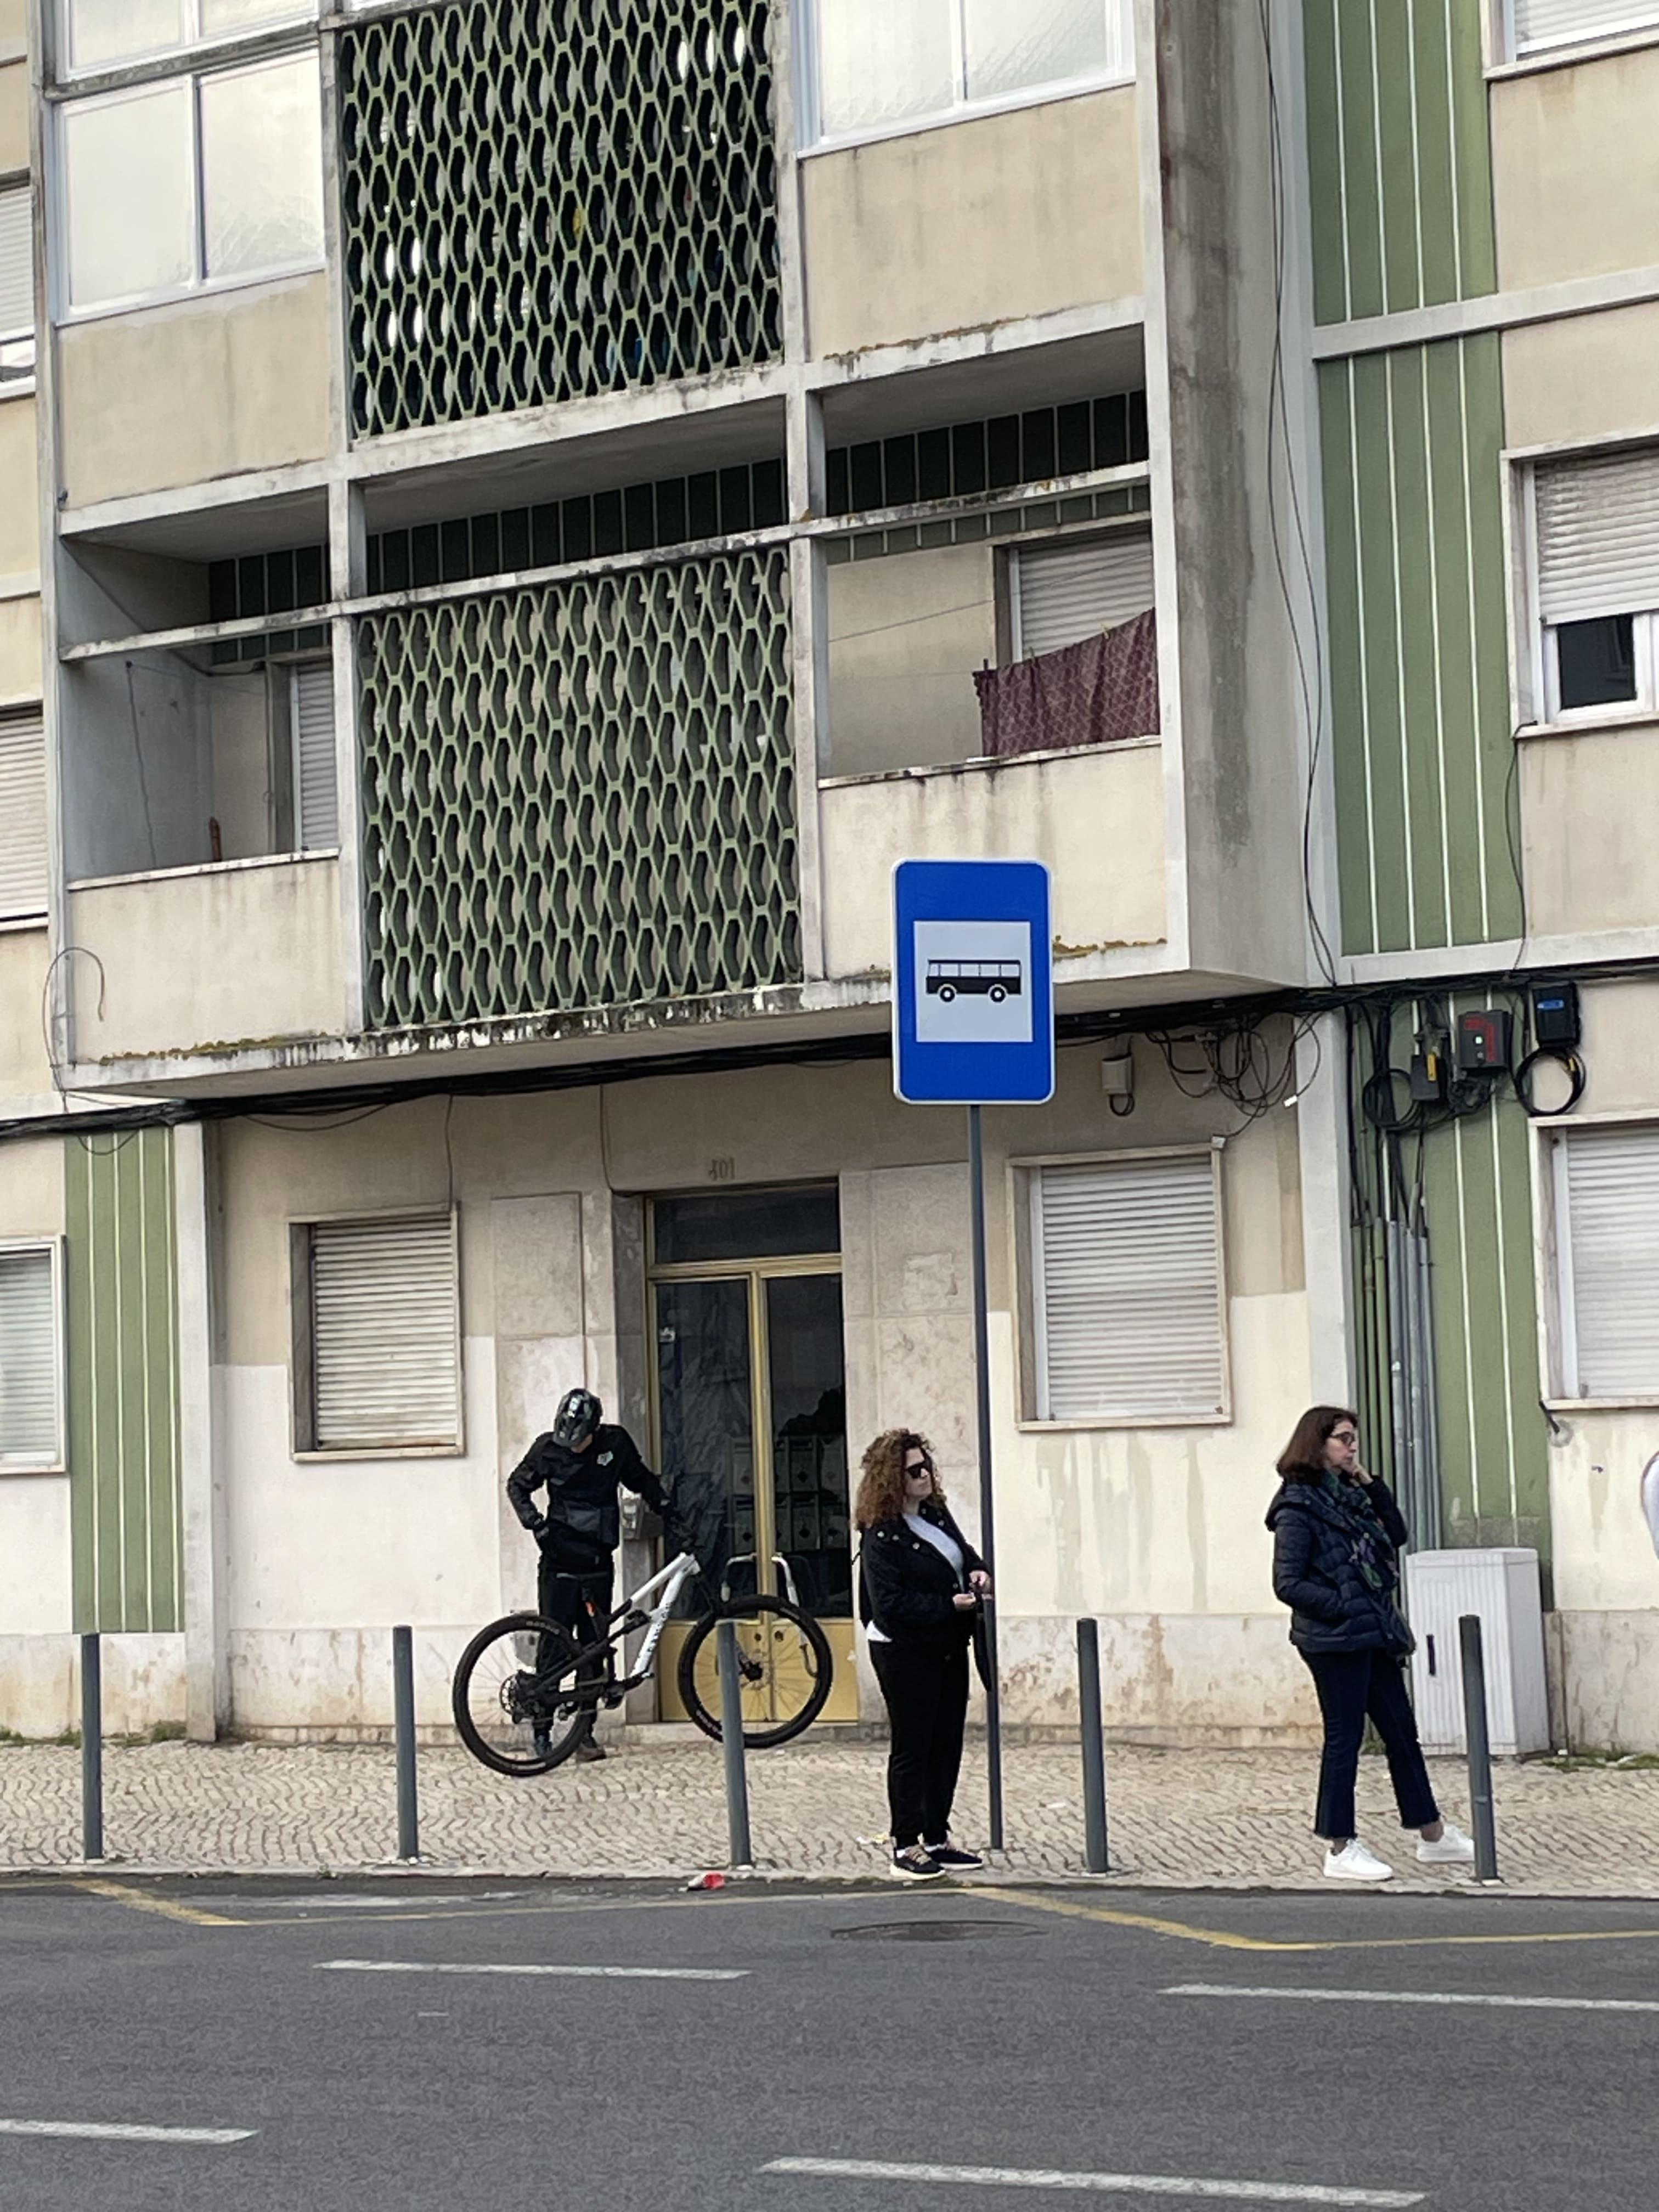Paragem de veiculos de transporte colectivo de passageiros: (889, 845, 1053, 1108)
